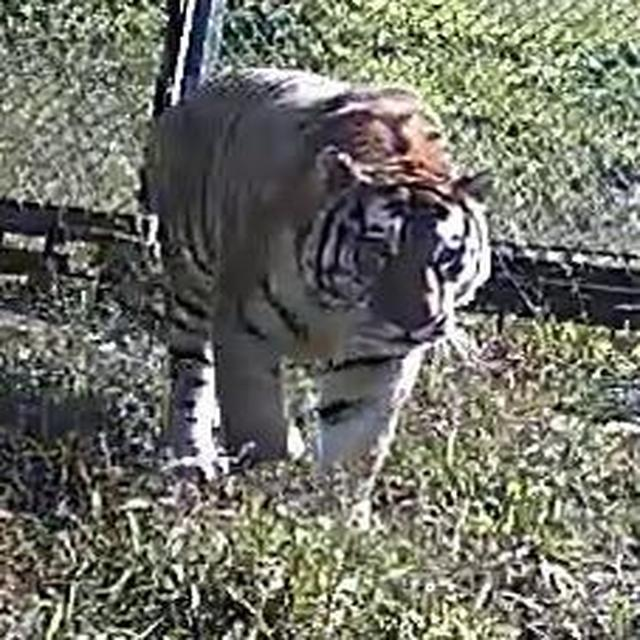tiger: (134, 63, 498, 531)
